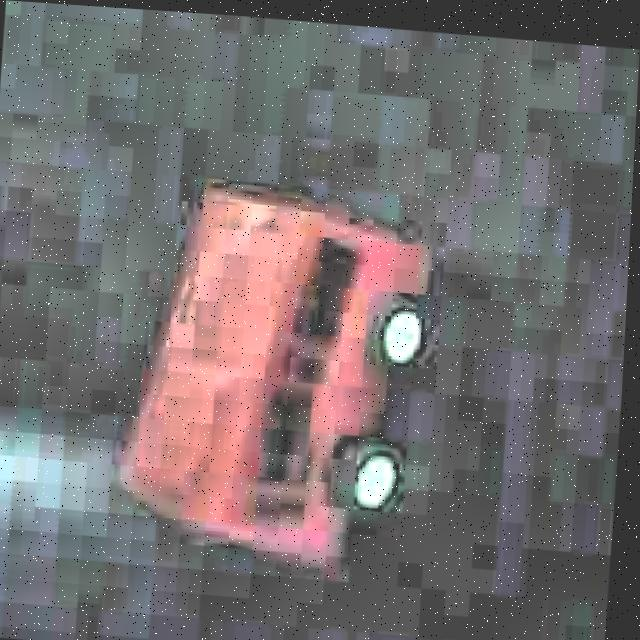bus: (101, 169, 458, 583)
